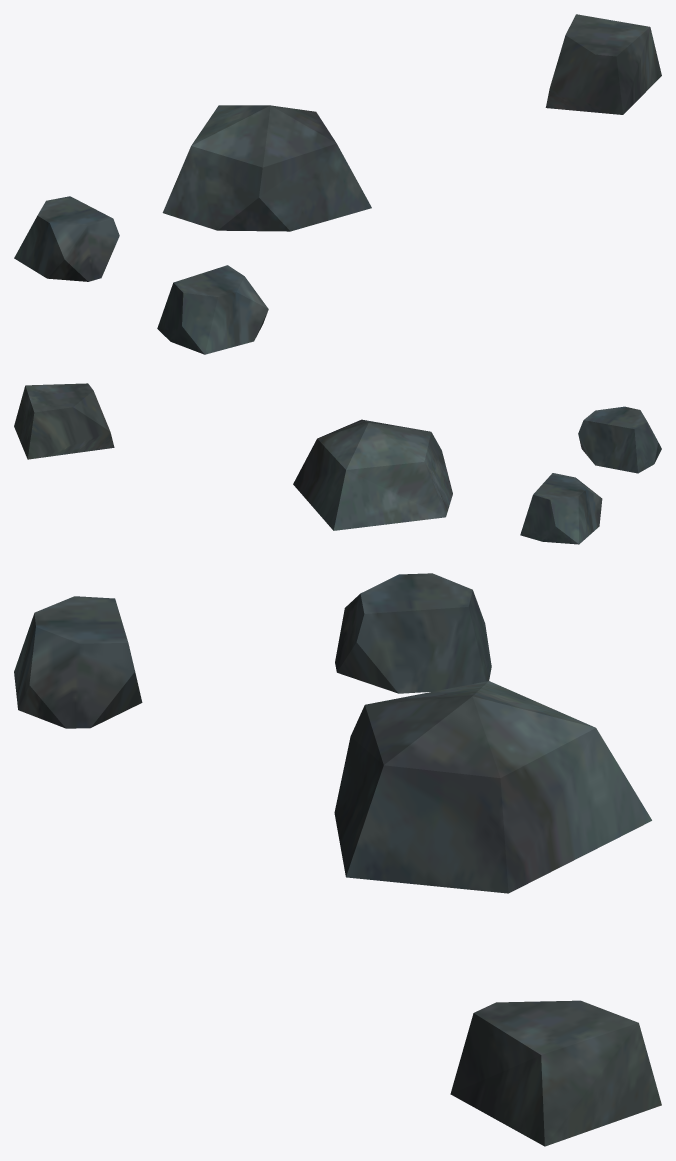
Rendered from object_rubble13.fbx.
3 renders of one model, top to bottom at view 1: azimuth 30°, elevation 25°; view 2: azimuth 150°, elevation 25°; view 3: azimuth 270°, elevation 25°, orthographic. The views are drawn at different scales.
Visible parts, largest first — view 1: obj0.087; view 2: obj0.087; view 3: obj0.087.
Boxes of the visible parts, bbox=[...] form: obj0.087: bbox=[14, 14, 661, 354]; obj0.087: bbox=[14, 383, 661, 544]; obj0.087: bbox=[14, 573, 661, 1146].
Size of the model in its own units: 2.49 by 0.3136 by 1.34.
